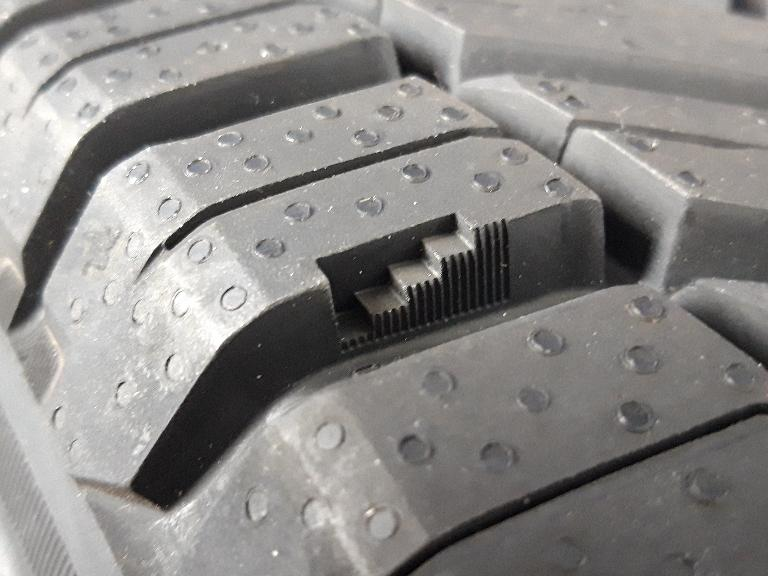temoin:100: (308, 201, 524, 362)
